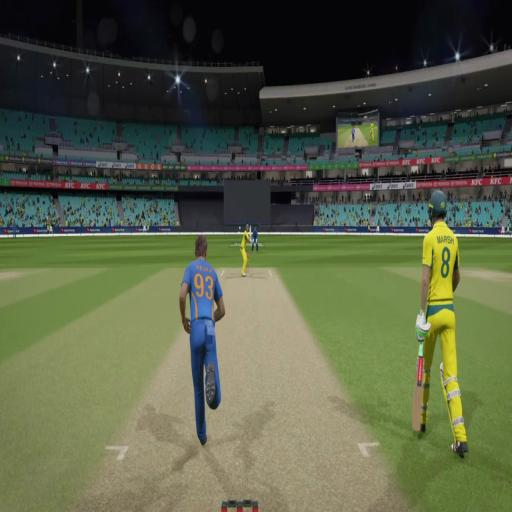ball: (236, 224, 240, 231)
